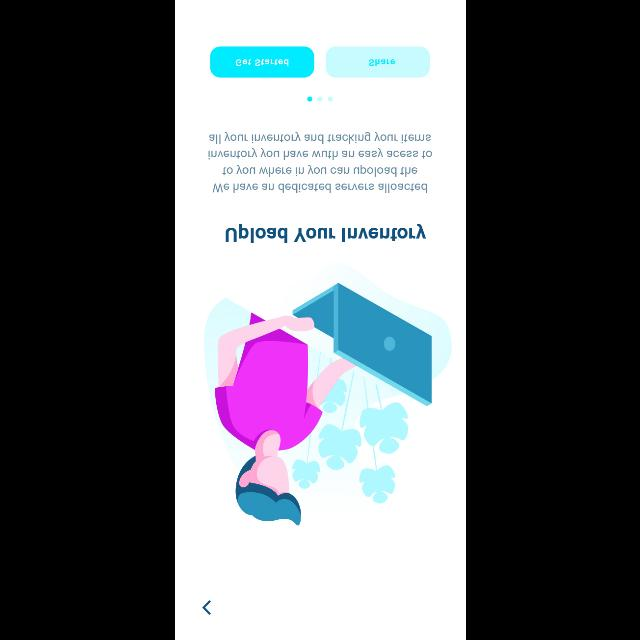icon: (202, 600, 210, 614)
image: (203, 262, 451, 526)
pageindicator: (306, 96, 332, 102)
text: (208, 131, 432, 193), (224, 223, 426, 243)
textbutton: (325, 46, 429, 78), (210, 46, 314, 78)
